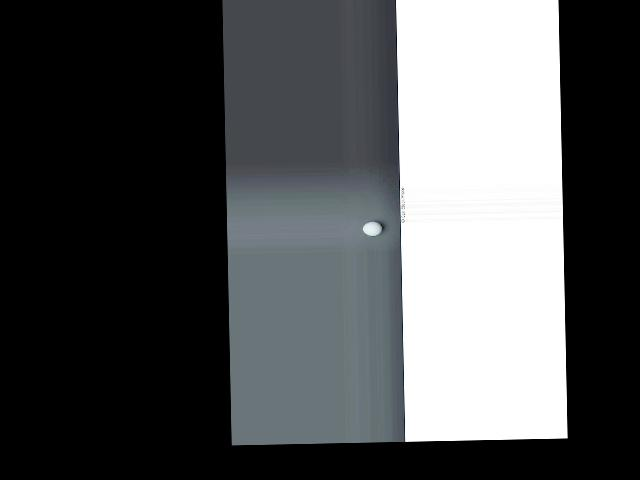egg: (362, 221, 382, 236)
